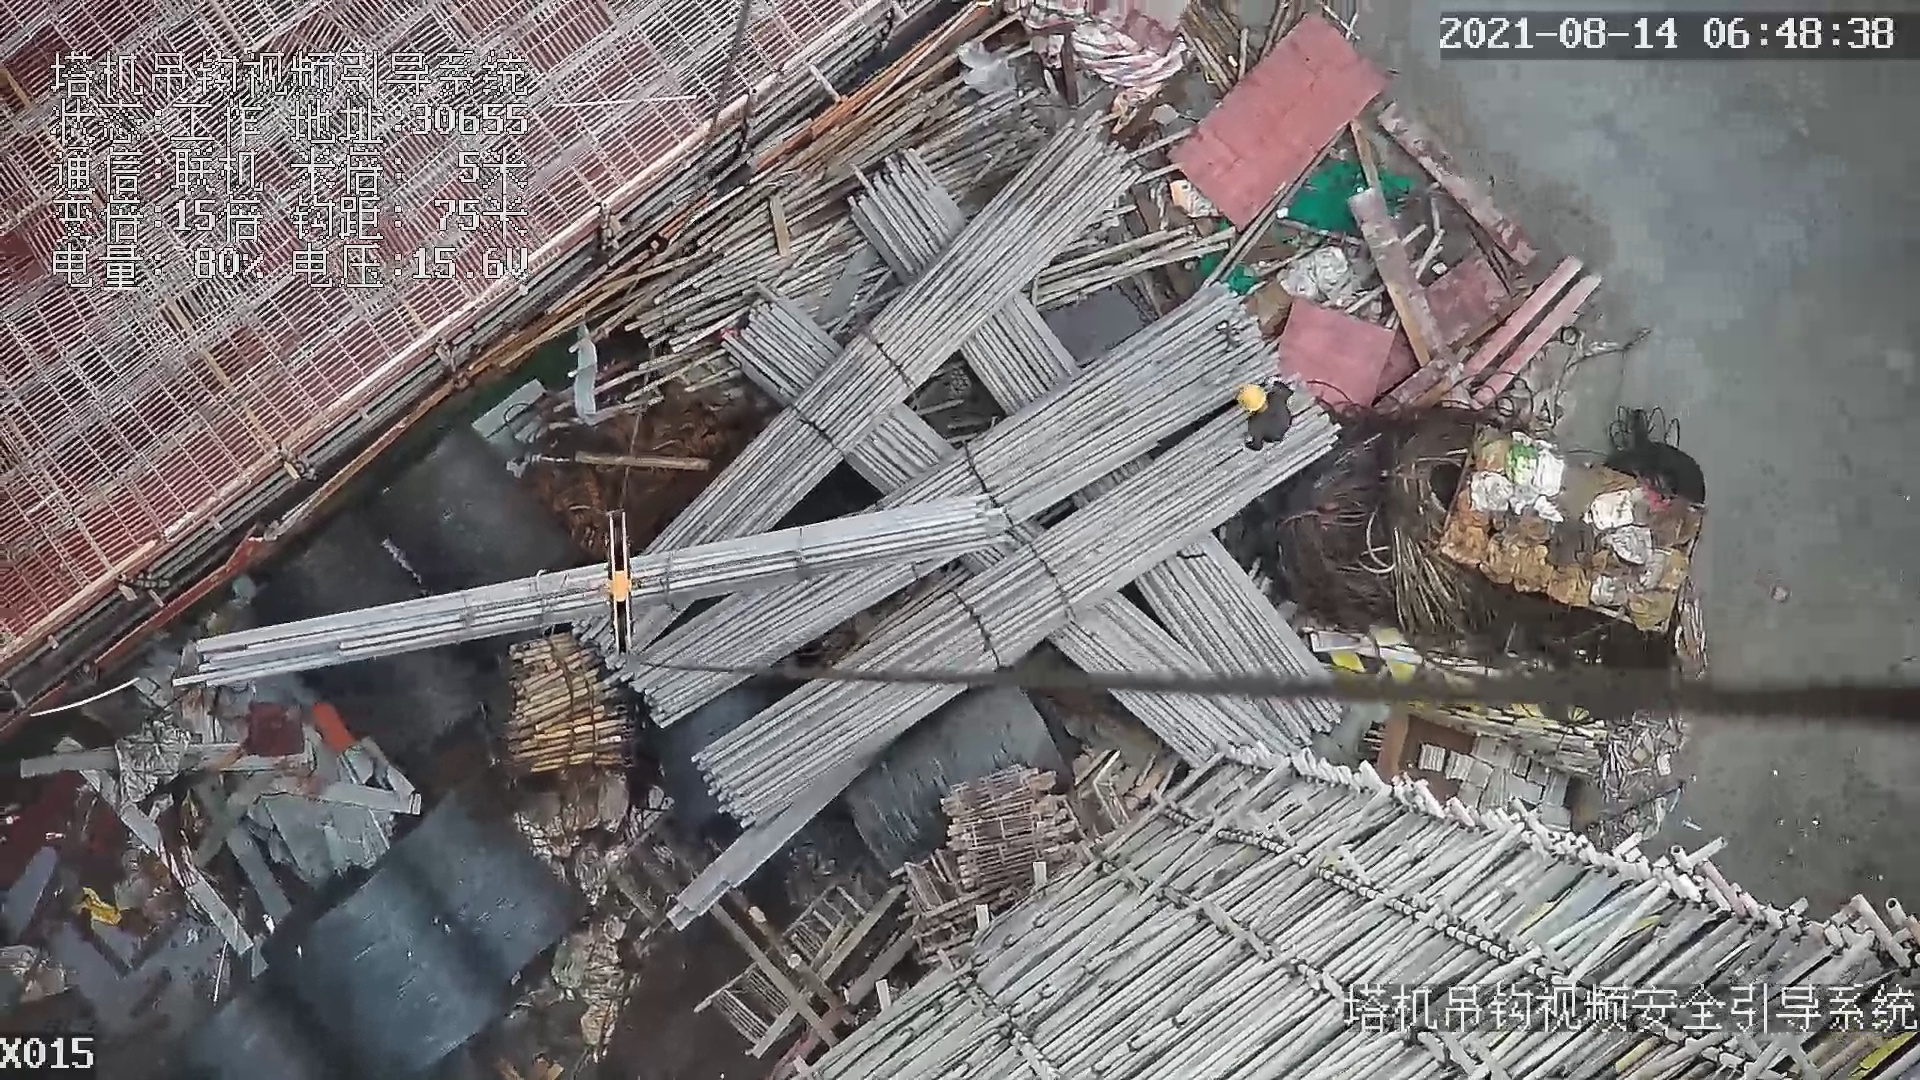board: (1163, 12, 1388, 228)
helmet: (1234, 385, 1267, 417)
hook: (600, 508, 631, 662)
person: (1233, 368, 1295, 451)
scaffold: (503, 639, 628, 767)
